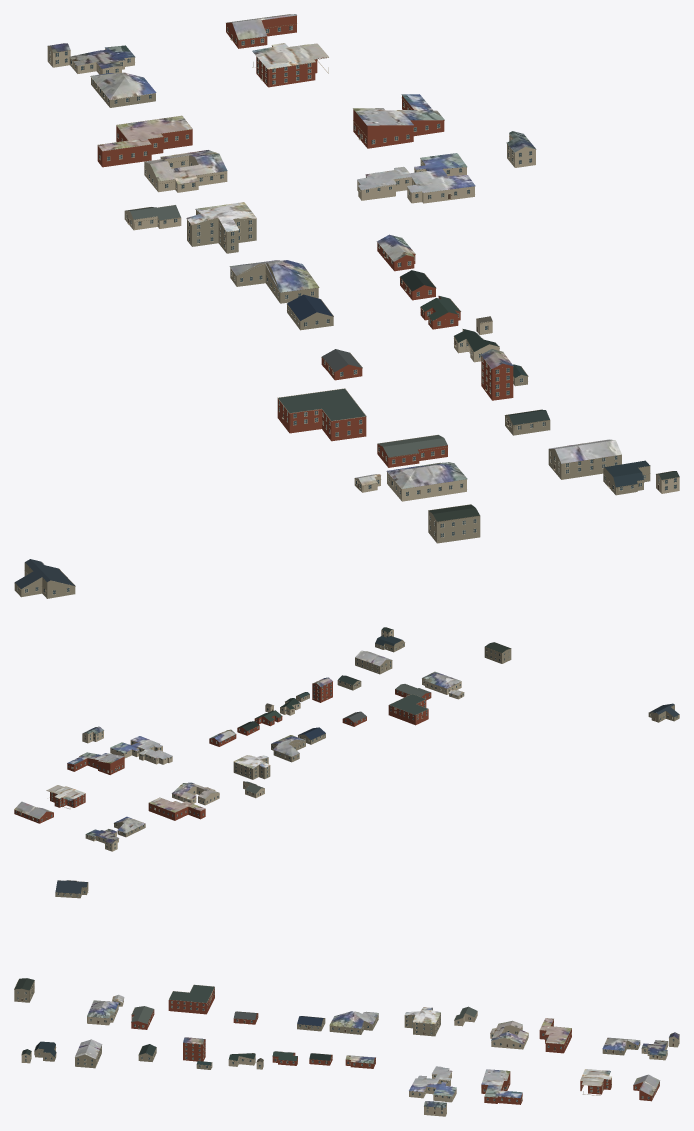
The picture shows the model from 3 angles, top to bottom: view 1: azimuth 30°, elevation 25°; view 2: azimuth 150°, elevation 25°; view 3: azimuth 270°, elevation 25°; orthographic projection. The views are drawn at different scales.
Visible parts, largest first — view 1: -1_1_451772521_7, -1_1_611311717_45, -1_1_611309499_14, -1_1_611311713_41; view 2: -1_1_451772521_7, -1_1_611311717_45, -1_1_611309499_14, -1_1_611311713_41; view 3: -1_1_451772521_7, -1_1_611311717_45, -1_1_611309499_14, -1_1_611311713_41.
Part boxes in pixels (box(x1,y1,x2,y2)): -1_1_451772521_7: box(14, 14, 679, 598); -1_1_611311717_45: box(97, 15, 513, 467); -1_1_611309499_14: box(15, 205, 679, 588); -1_1_611311713_41: box(47, 46, 679, 501); -1_1_451772521_7: box(14, 627, 679, 849); -1_1_611311717_45: box(14, 681, 431, 823); -1_1_611309499_14: box(238, 627, 679, 793); -1_1_611311713_41: box(82, 630, 464, 851); -1_1_451772521_7: box(14, 880, 679, 1114); -1_1_611311717_45: box(131, 987, 659, 1104); -1_1_611309499_14: box(14, 880, 477, 1065); -1_1_611311713_41: box(21, 999, 679, 1116).
Size of the model in its own units: 385 by 22.94 by 471.
13 materials, 1 textured.
